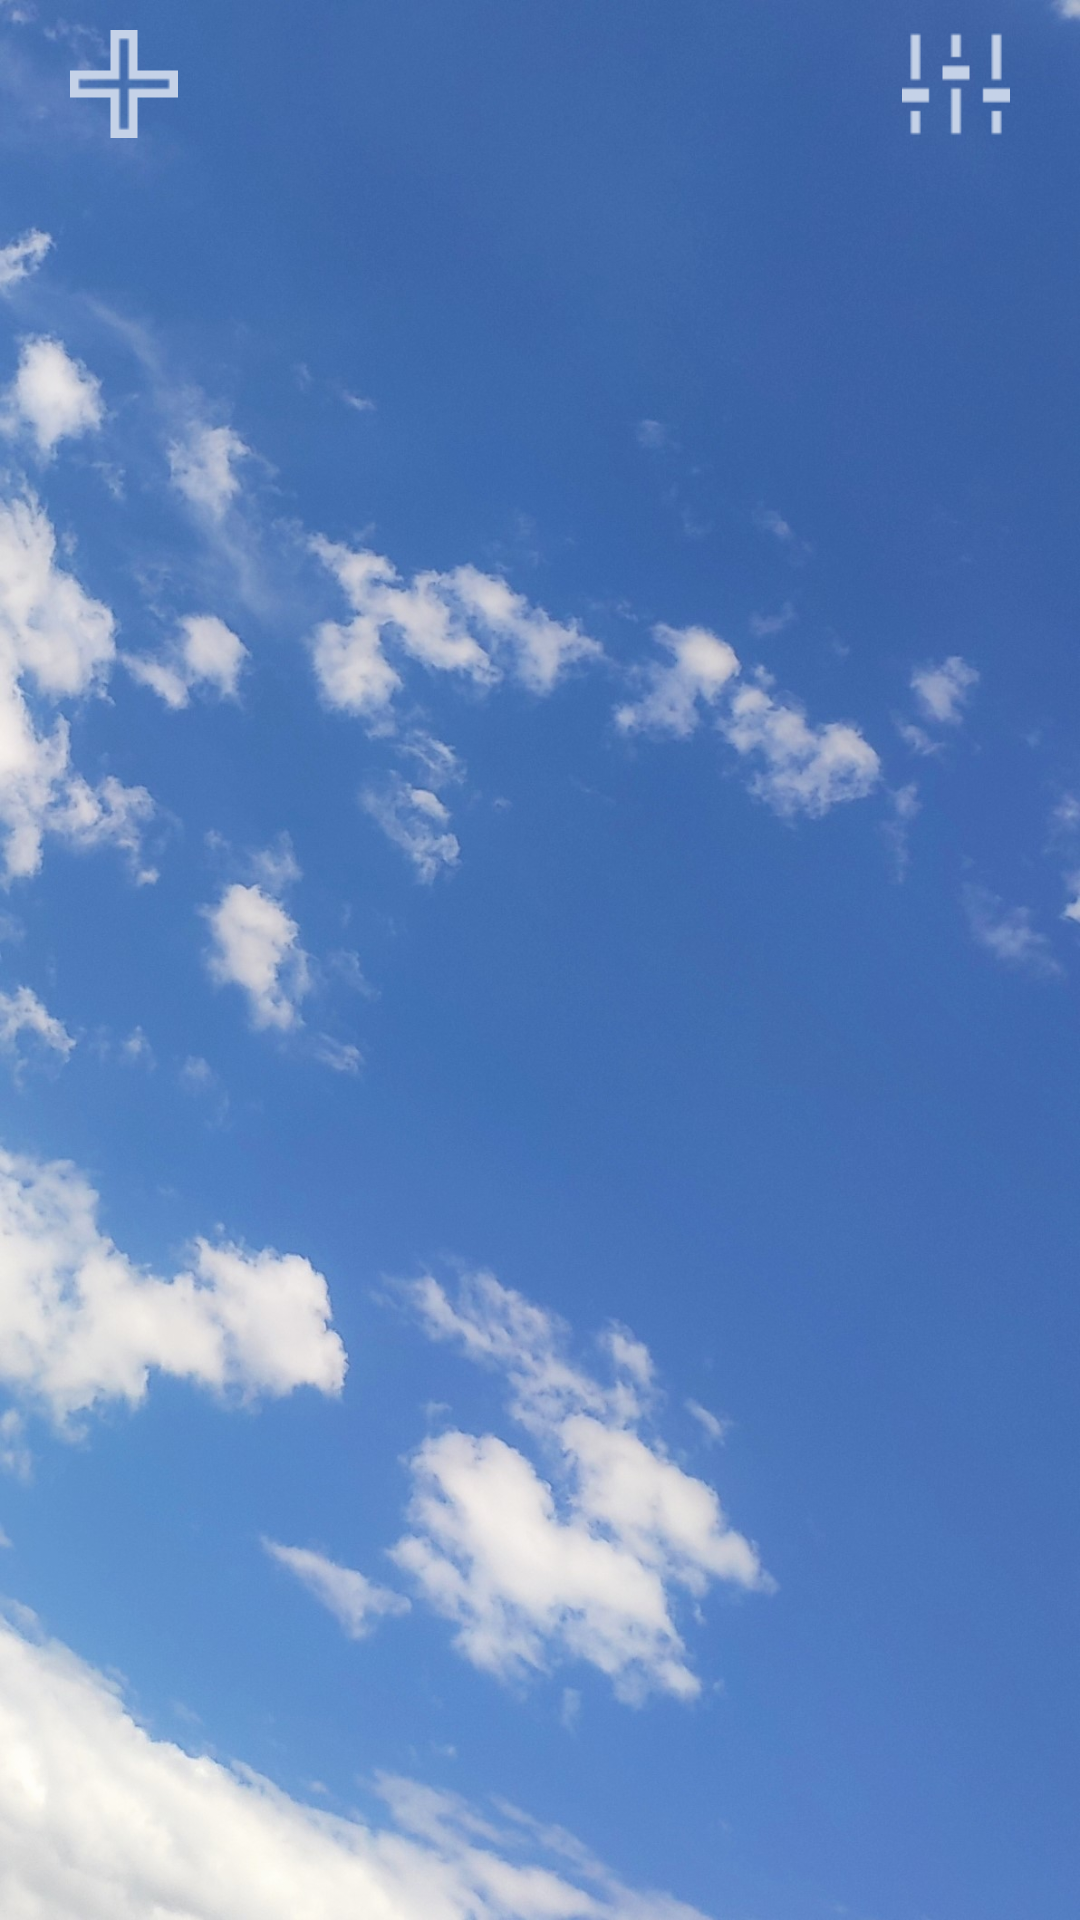

Named icons in this screenshot (1080px×1920px) and their centers, [x,y]:
add: [119,84]
